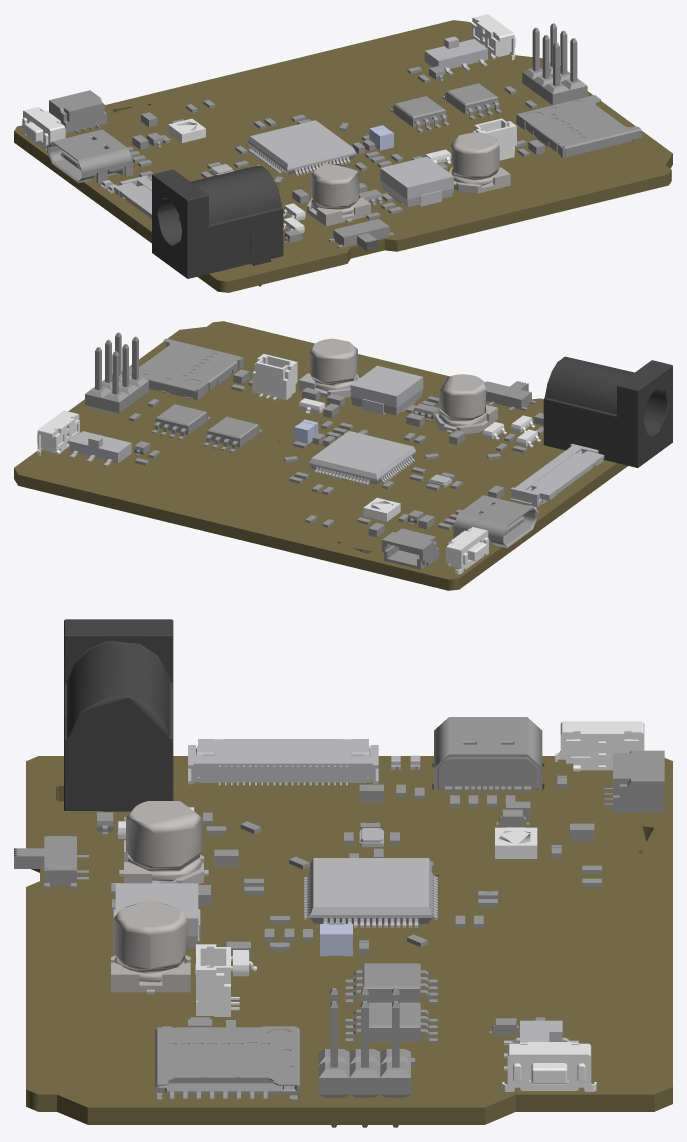
The model's file is ada-6003.glb.
The picture shows the model from 3 angles, top to bottom: view 1: azimuth 30°, elevation 25°; view 2: azimuth 150°, elevation 25°; view 3: azimuth 270°, elevation 25°; orthographic projection. The views are drawn at different scales.
Visible parts, largest first — view 1: 0.16666666666666666_0.16666666666666666_0.08333333333333333_, 0.3333333333333333_0.3333333333333333_0.3333333333333333_0, 0.08333333333333333_0.08333333333333333_0.08333333333333333_, 0.5833333333333334_0.5833333333333334_0.5833333333333334_0.8, 0.5_0.5_0.5_0.85, 0.9166666666666666_0.9166666666666666_0.9166666666666666_0.8, 0.5833333333333334_0.6666666666666666_0.8333333333333334_0; view 2: 0.16666666666666666_0.16666666666666666_0.08333333333333333_, 0.3333333333333333_0.3333333333333333_0.3333333333333333_0, 0.08333333333333333_0.08333333333333333_0.08333333333333333_, 0.5833333333333334_0.5833333333333334_0.5833333333333334_0.8, 0.9166666666666666_0.9166666666666666_0.9166666666666666_0.8, 0.5_0.5_0.5_0.85, 0.5833333333333334_0.6666666666666666_0.8333333333333334_0; view 3: 0.16666666666666666_0.16666666666666666_0.08333333333333333_, 0.3333333333333333_0.3333333333333333_0.3333333333333333_0, 0.5833333333333334_0.5833333333333334_0.5833333333333334_0.8, 0.08333333333333333_0.08333333333333333_0.08333333333333333_, 0.5_0.5_0.5_0.85, 0.9166666666666666_0.9166666666666666_0.9166666666666666_0.8, 0.5833333333333334_0.6666666666666666_0.8333333333333334_0.
Part boxes in pixels (left/top/right/bottom): 0.16666666666666666_0.16666666666666666_0.08333333333333333_: left=14, top=20, right=672, bottom=292; 0.3333333333333333_0.3333333333333333_0.3333333333333333_0: left=47, top=23, right=641, bottom=250; 0.08333333333333333_0.08333333333333333_0.08333333333333333_: left=152, top=165, right=283, bottom=286; 0.5833333333333334_0.5833333333333334_0.5833333333333334_0.8: left=100, top=36, right=487, bottom=218; 0.5_0.5_0.5_0.85: left=307, top=132, right=510, bottom=226; 0.9166666666666666_0.9166666666666666_0.9166666666666666_0.8: left=22, top=14, right=516, bottom=233; 0.5833333333333334_0.6666666666666666_0.8333333333333334_0: left=369, top=125, right=393, bottom=150; 0.16666666666666666_0.16666666666666666_0.08333333333333333_: left=14, top=321, right=627, bottom=590; 0.3333333333333333_0.3333333333333333_0.3333333333333333_0: left=85, top=332, right=543, bottom=569; 0.08333333333333333_0.08333333333333333_0.08333333333333333_: left=543, top=356, right=672, bottom=467; 0.5833333333333334_0.5833333333333334_0.5833333333333334_0.8: left=69, top=365, right=604, bottom=515; 0.9166666666666666_0.9166666666666666_0.9166666666666666_0.8: left=37, top=354, right=540, bottom=574; 0.5_0.5_0.5_0.85: left=298, top=338, right=497, bottom=434; 0.5833333333333334_0.6666666666666666_0.8333333333333334_0: left=294, top=419, right=318, bottom=444; 0.16666666666666666_0.16666666666666666_0.08333333333333333_: left=26, top=756, right=672, bottom=1124; 0.3333333333333333_0.3333333333333333_0.3333333333333333_0: left=14, top=717, right=664, bottom=1127; 0.5833333333333334_0.5833333333333334_0.5833333333333334_0.8: left=113, top=739, right=578, bottom=1070; 0.08333333333333333_0.08333333333333333_0.08333333333333333_: left=64, top=619, right=173, bottom=811; 0.5_0.5_0.5_0.85: left=111, top=801, right=208, bottom=994; 0.9166666666666666_0.9166666666666666_0.9166666666666666_0.8: left=117, top=721, right=644, bottom=1091; 0.5833333333333334_0.6666666666666666_0.8333333333333334_0: left=320, top=924, right=352, bottom=956.
Size of the model in its own units: 7.18 by 1.45 by 5.43.
